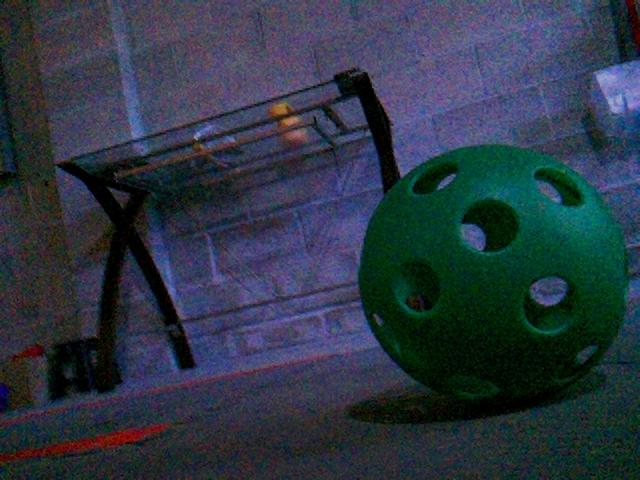Green: (352, 146, 626, 402)
